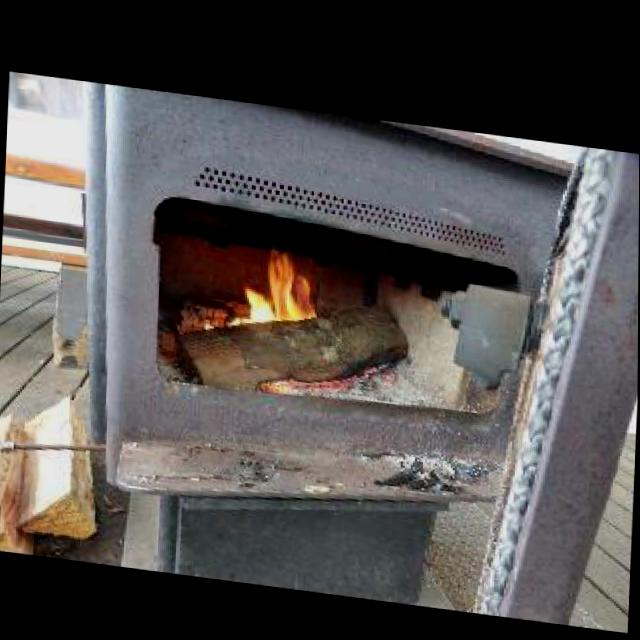Fire: (233, 241, 318, 326)
